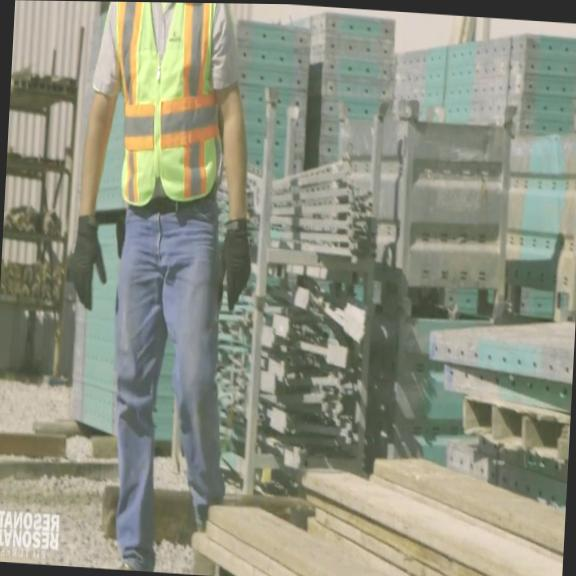safety_vest: (103, 2, 235, 211)
